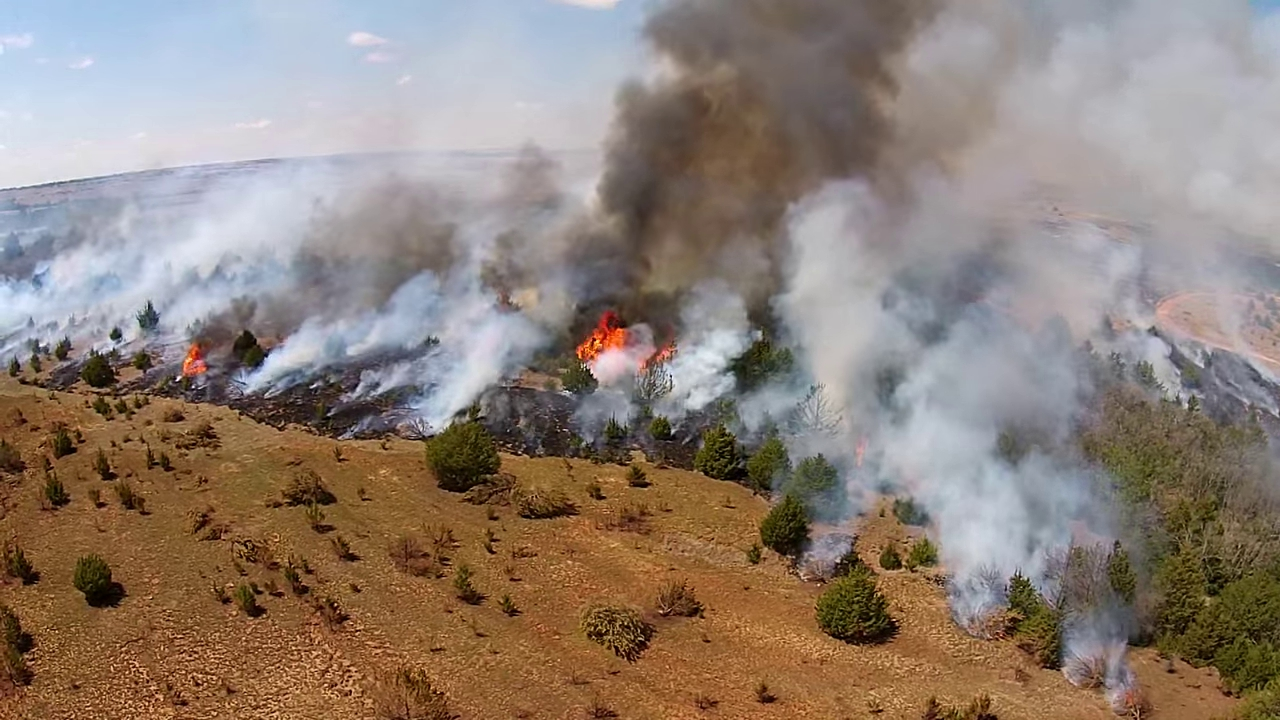forest_fire: (576, 310, 637, 369), (183, 343, 208, 376)
